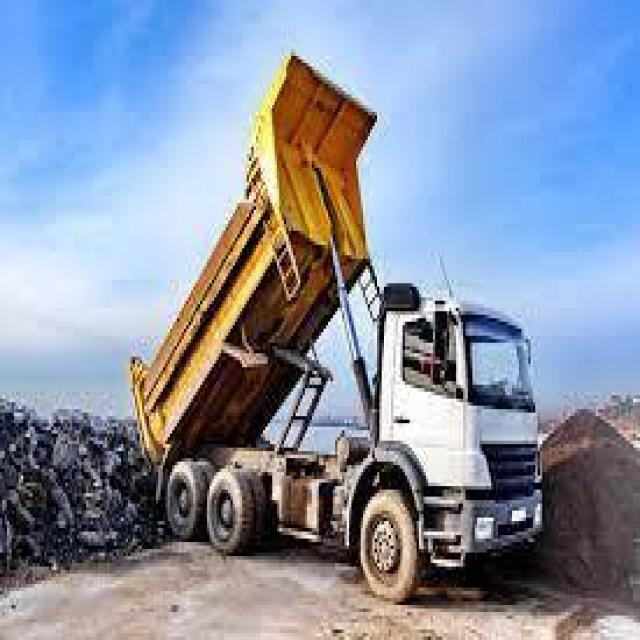dump_truck: (130, 51, 548, 598)
